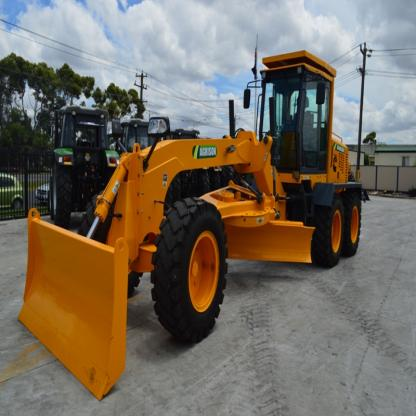bull_dozer/loader/grader: (14, 25, 374, 388)
